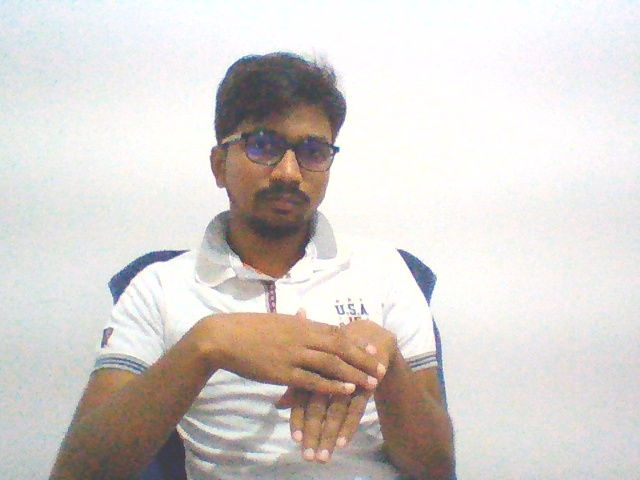pineapple: (184, 294, 400, 467)
